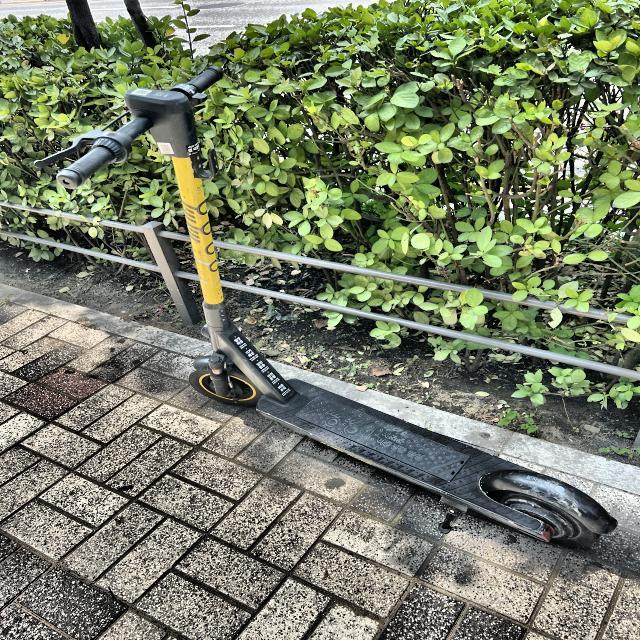bike: (32, 61, 631, 553)
